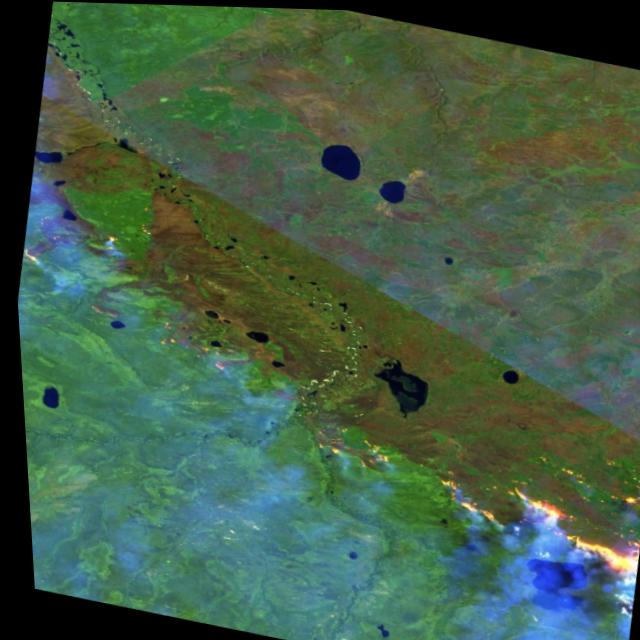fire: (9, 186, 640, 581)
